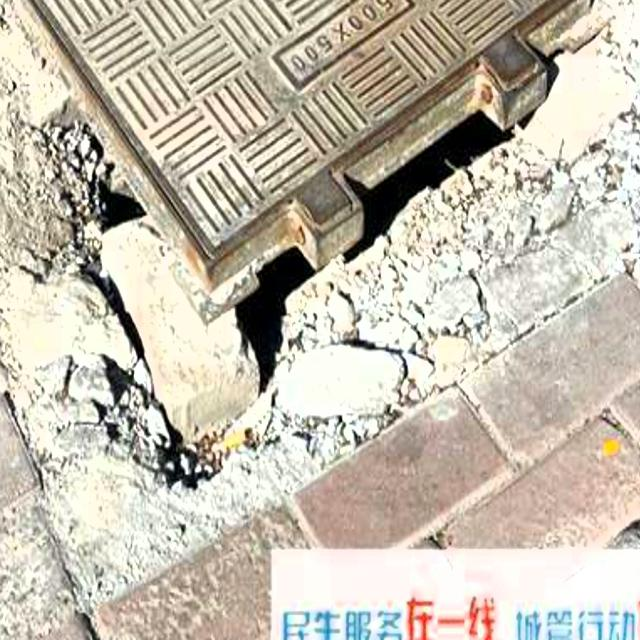circle: (0, 0, 640, 508)
